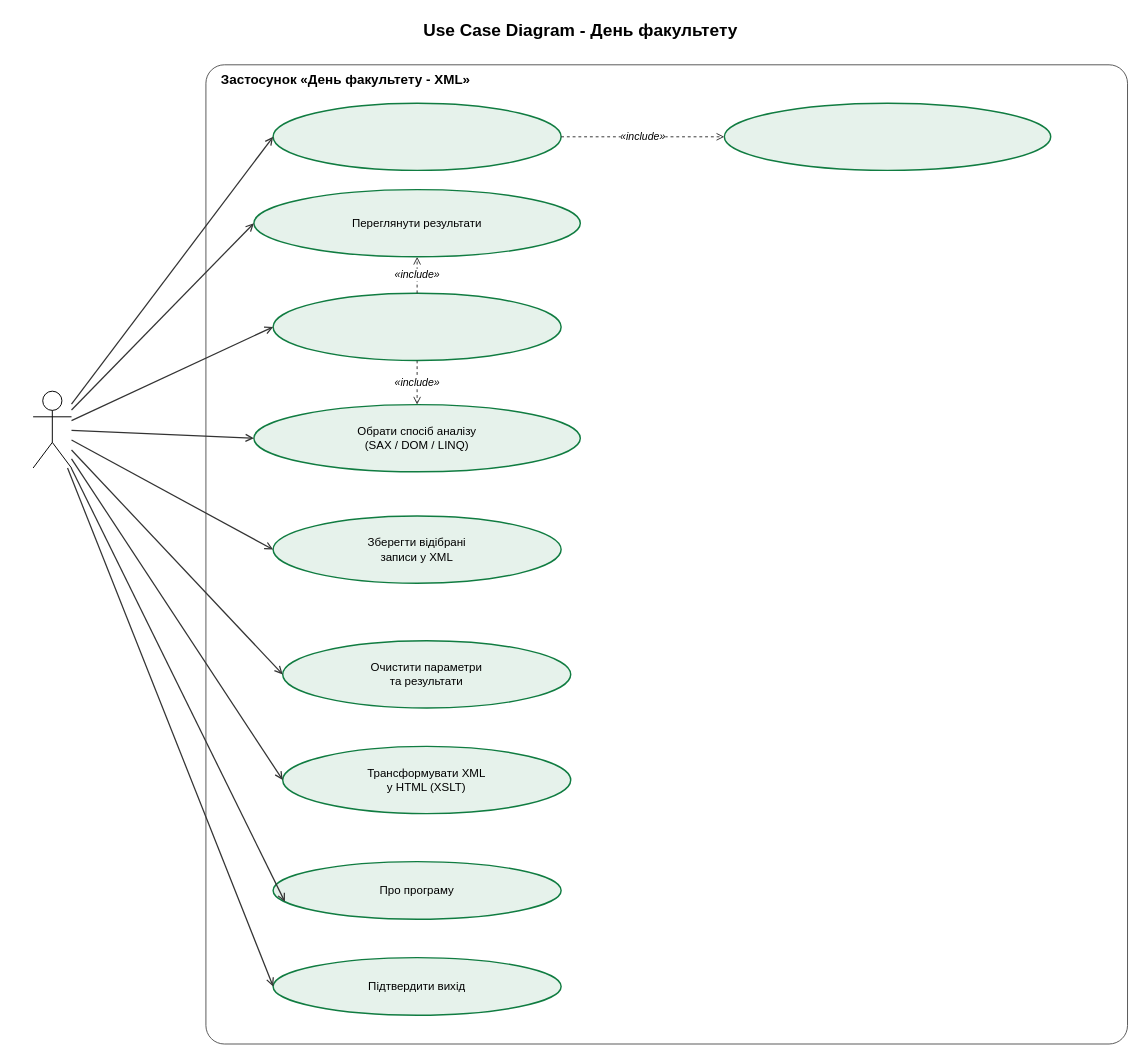
This 1144x1061 diagram has some shape labels left out. The box of each missing label's shape, as (x1, y1, x2, y2) in pixels:
Відкрити XML-файл: (272, 102, 561, 171)
Завантажити атрибути та їх значення: (723, 102, 1051, 171)
Користувач: (32, 390, 72, 468)
Пошук за атрибутом і ключовим словом: (272, 292, 561, 361)
